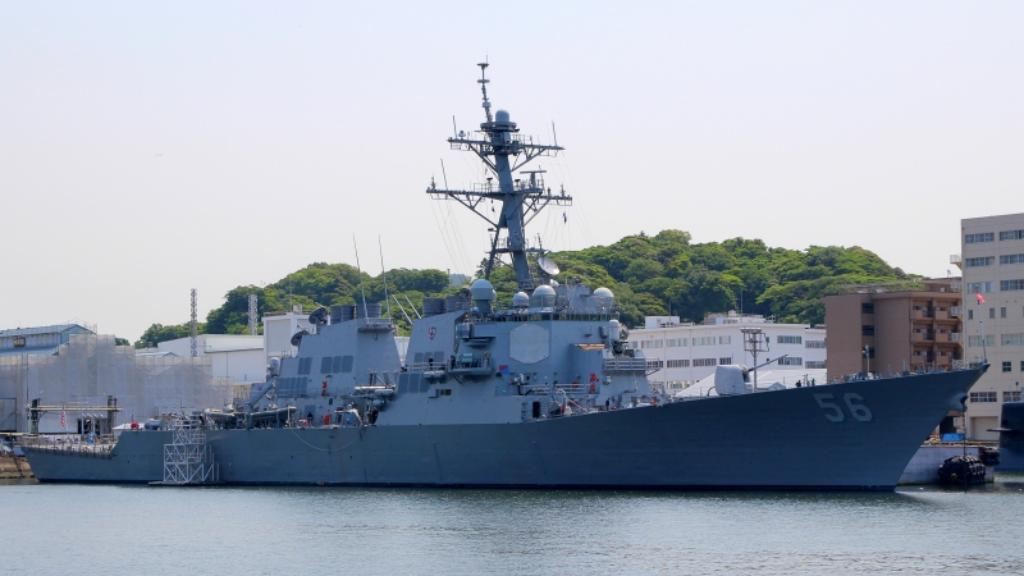Warship: (17, 50, 991, 498)
